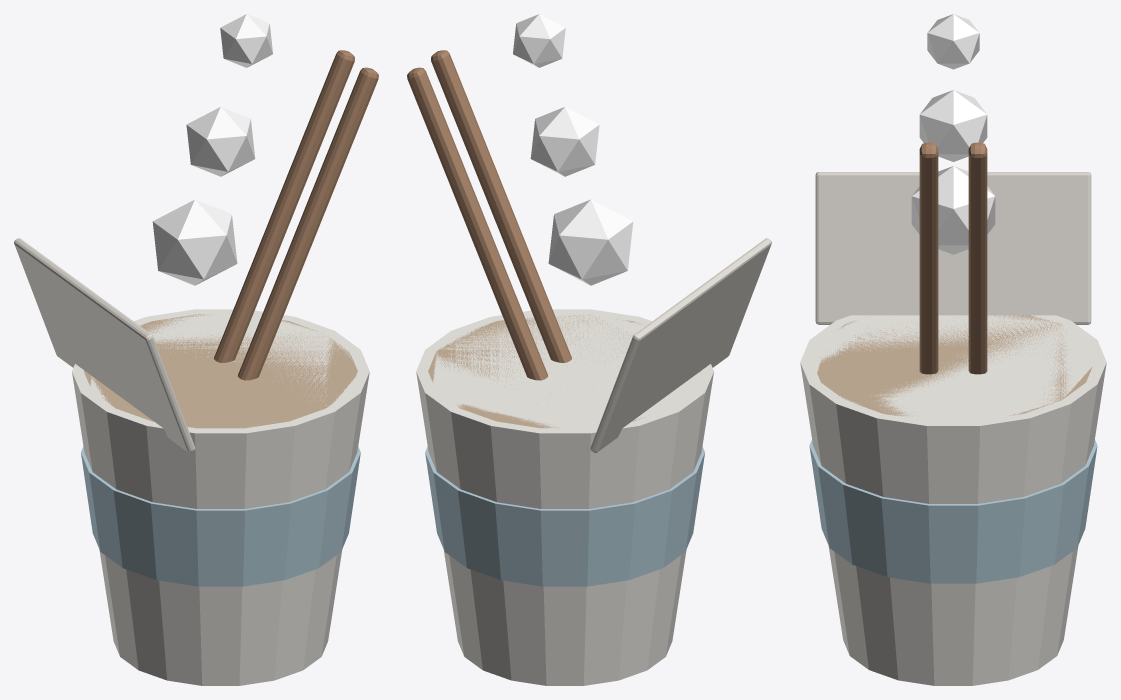
The model's file is noodle.glb.
The picture shows the model from 3 angles, left to right: view 1: azimuth 30°, elevation 25°; view 2: azimuth 150°, elevation 25°; view 3: azimuth 270°, elevation 25°; orthographic projection. The views are drawn at different scales.
Parts seen in each view (by area): view 1: Noodle; view 2: Noodle; view 3: Noodle.
Boxes of the visible parts, bbox=[...] form: Noodle: bbox=[14, 14, 378, 685]; Noodle: bbox=[407, 14, 771, 685]; Noodle: bbox=[800, 14, 1106, 685].
Size of the model in its own units: 0.1104 by 0.23 by 0.1.
